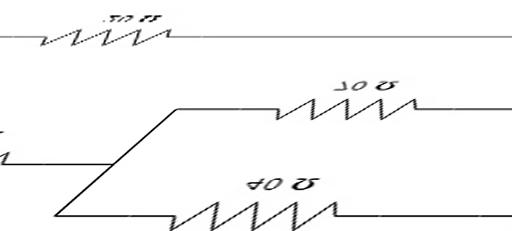resistor: (156, 180, 347, 229), (37, 12, 190, 65), (251, 88, 429, 125)
